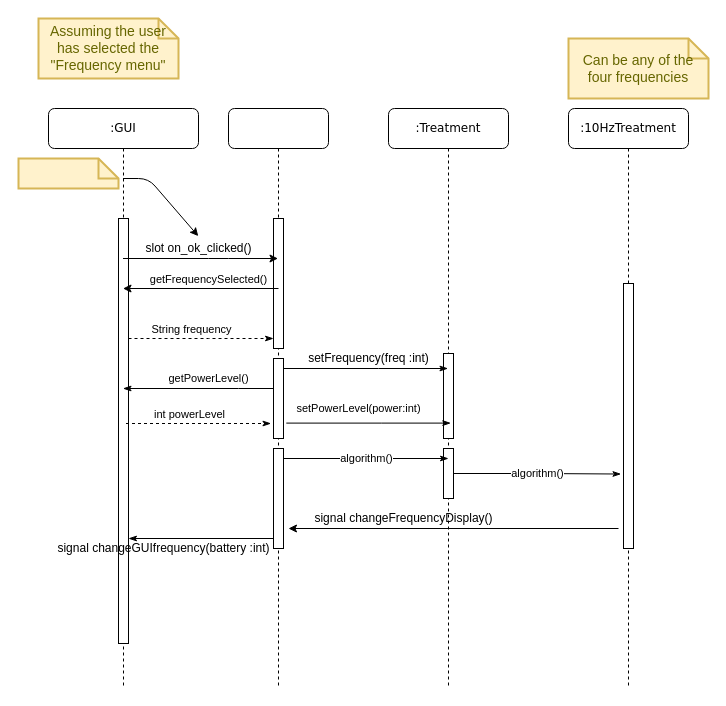
The diagram is 726 pixels wide and 706 high, and some of its shapes have lost their labels. Here are the shapes that lost their labels. From the top down, the centre of each, then its label:
point (68, 173): Frequency Selected
point (278, 398): :Controller
